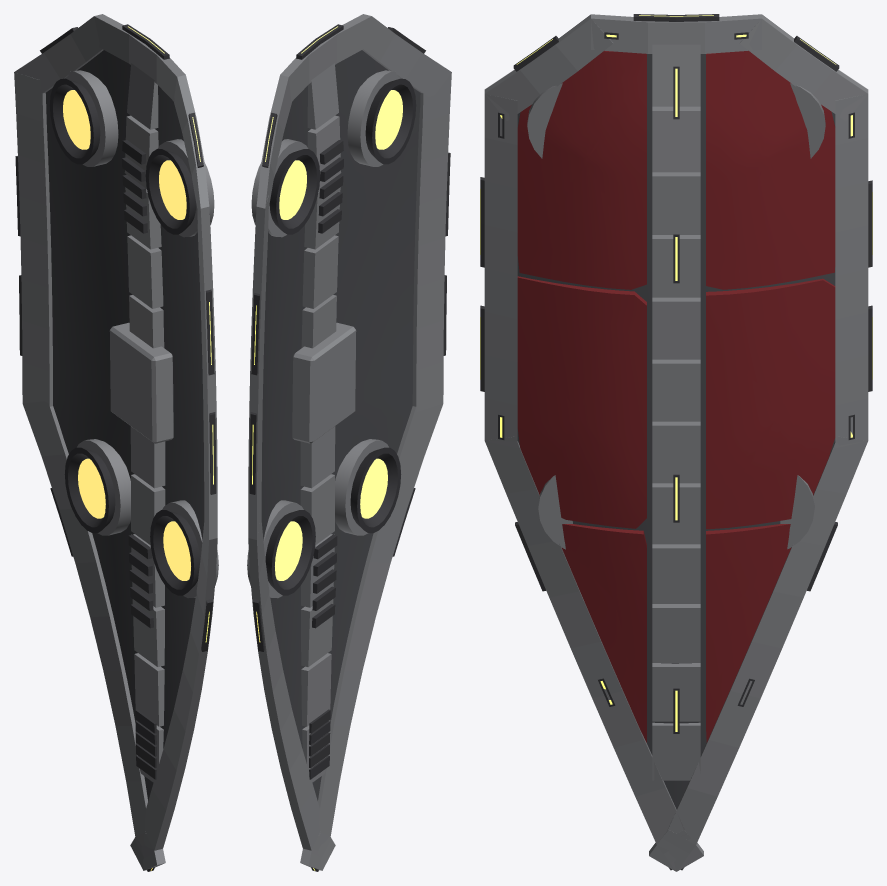
Rendered from shield_drone.glb.
3 views of the same model, side by side, from view 1: azimuth 30°, elevation 25°; view 2: azimuth 150°, elevation 25°; view 3: azimuth 270°, elevation 25° (orthographic). The views are drawn at different scales.
Visible parts, largest first — view 1: shield; view 2: shield; view 3: shield.
Boxes of the visible parts, bbox=[...] form: shield: bbox=[14, 14, 218, 871]; shield: bbox=[247, 14, 451, 871]; shield: bbox=[480, 14, 872, 871].
Size of the model in its own units: 0.8 by 8.59 by 3.58.
